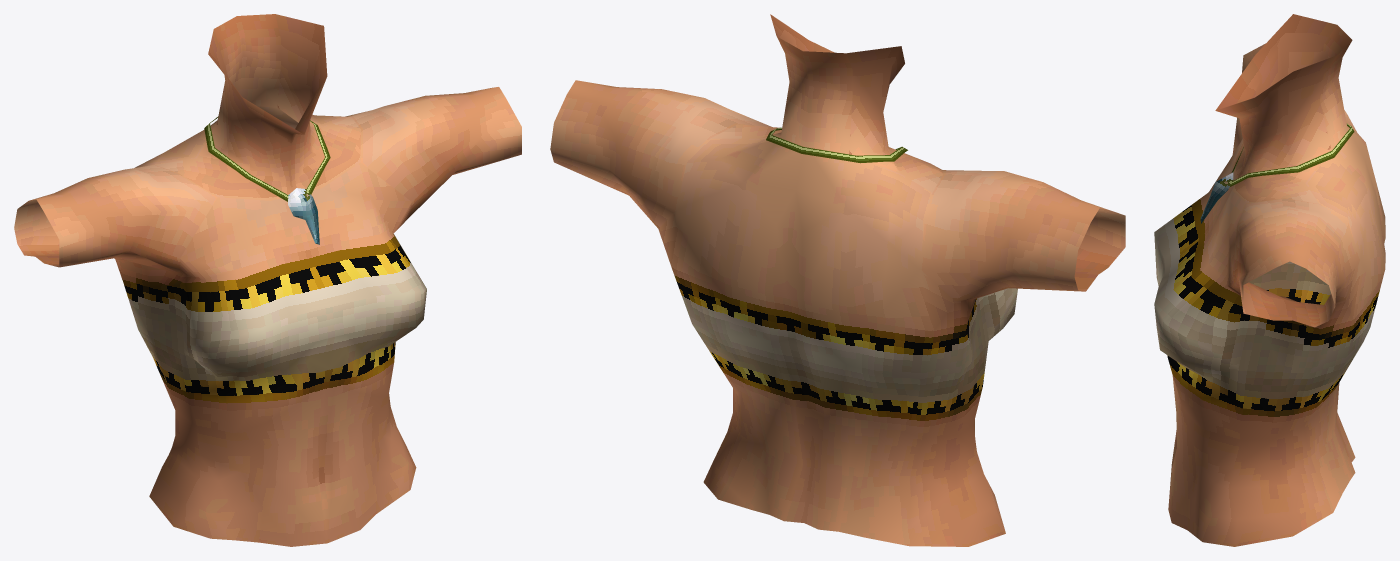
File: f_plate264.obj
3 views of the same model, side by side, from view 1: azimuth 30°, elevation 25°; view 2: azimuth 150°, elevation 25°; view 3: azimuth 270°, elevation 25° (orthographic). The views are drawn at different scales.
Visible parts, largest first — view 1: mesh00; view 2: mesh00; view 3: mesh00.
Part boxes in pixels (x1,y1,x2,y2): mesh00: [14, 14, 521, 546]; mesh00: [550, 14, 1125, 546]; mesh00: [1154, 14, 1385, 546].
Bounding box in the file's own units: 61.81 × 58.89 × 26.3.
Materials: 1 (1 with a texture image).
